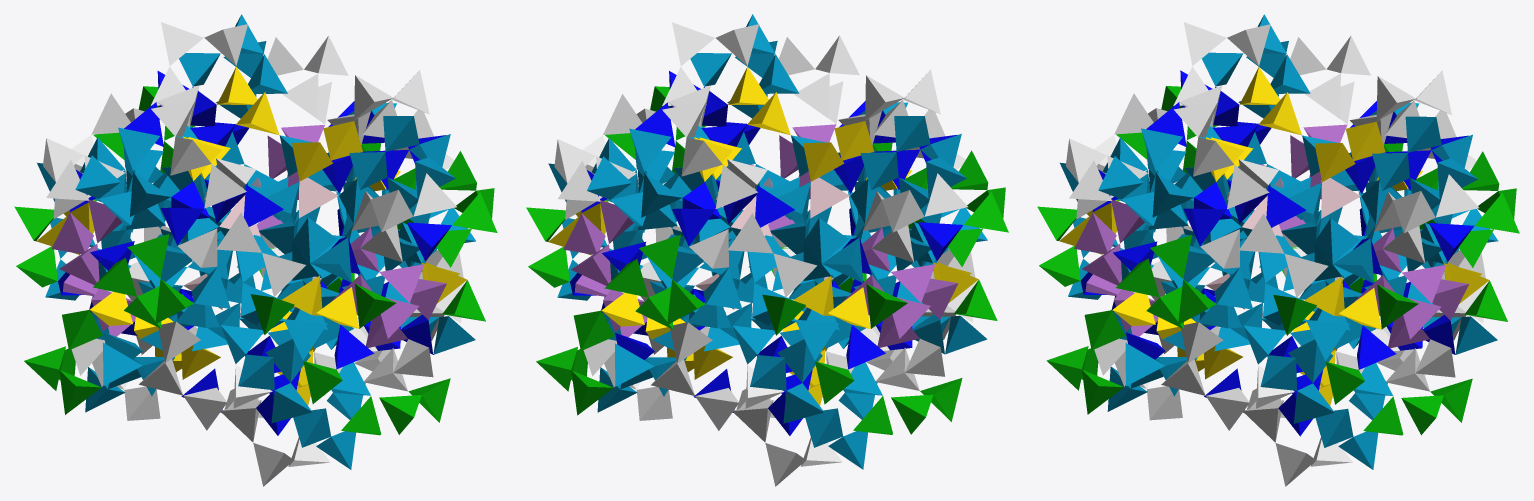
Rendered from Hexamer_Volume_Merged_UnityScale.fbx.
3 views of the same model, side by side, from view 1: azimuth 30°, elevation 25°; view 2: azimuth 150°, elevation 25°; view 3: azimuth 270°, elevation 25° (orthographic).
Parts seen in each view (by area): view 1: Backbone Merged; view 2: Backbone Merged; view 3: Backbone Merged.
Boxes of the visible parts, bbox=[...] form: Backbone Merged: bbox=[14, 14, 497, 486]; Backbone Merged: bbox=[526, 14, 1008, 486]; Backbone Merged: bbox=[1037, 14, 1519, 486].
Size of the model in its own units: 107 by 87.89 by 107.
